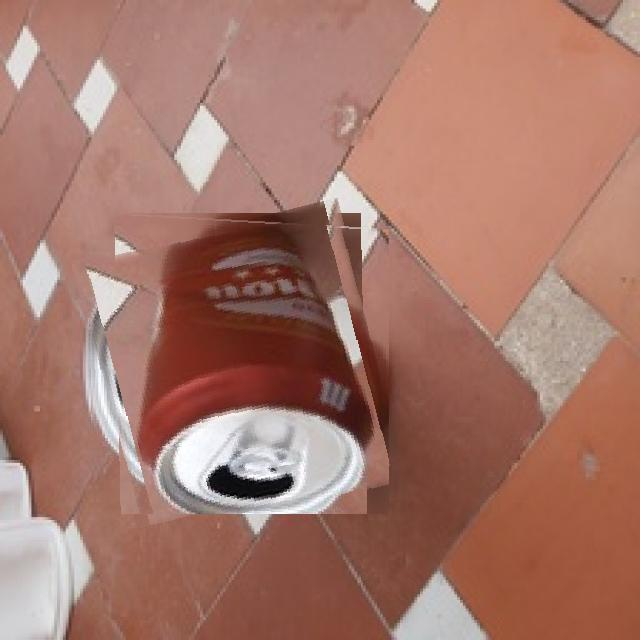recyclable: (87, 211, 389, 514)
